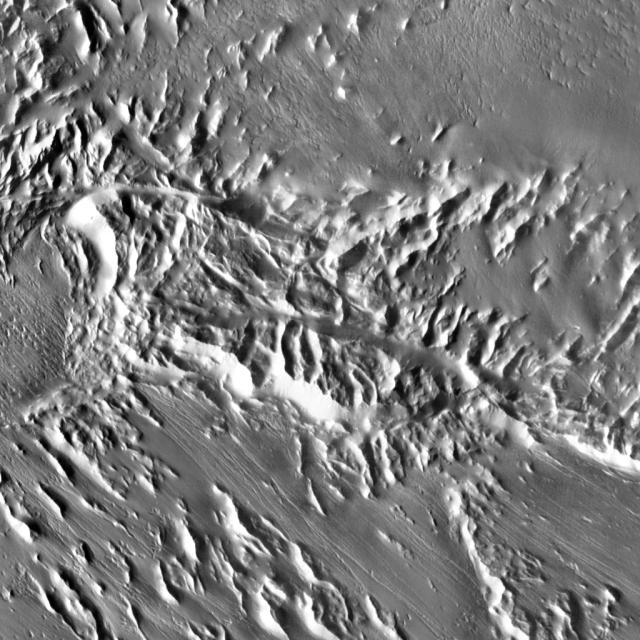crater: (229, 178, 245, 194)
